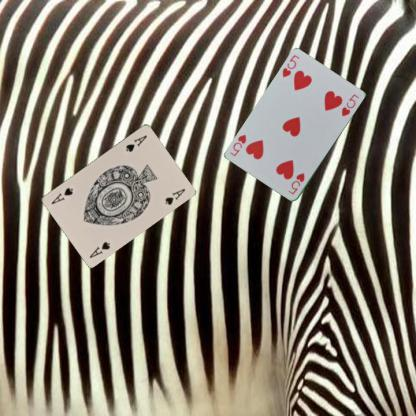5h: (280, 53, 301, 79), (286, 170, 306, 196)
As: (123, 132, 149, 153), (86, 238, 112, 258)
